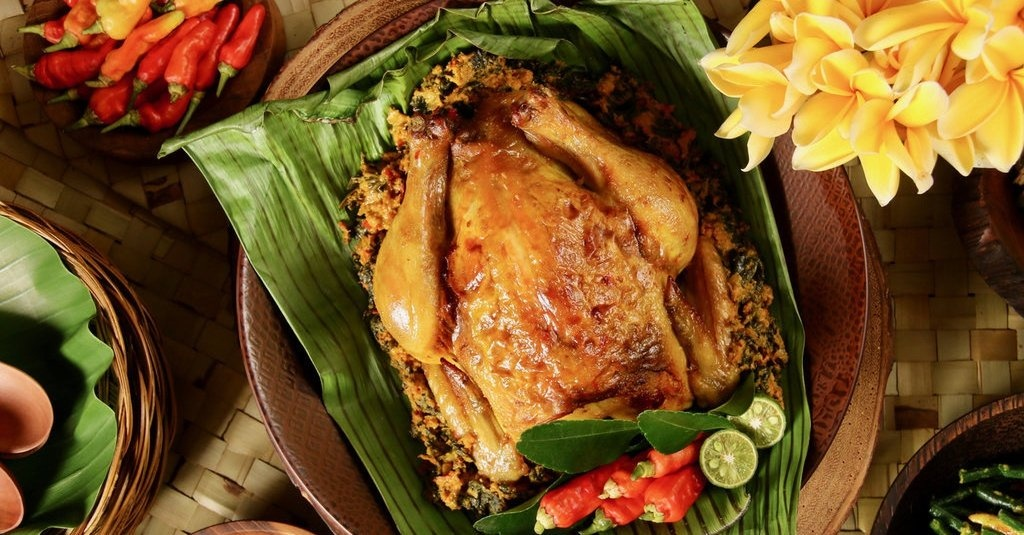ayam_betutu: (362, 87, 710, 408)
